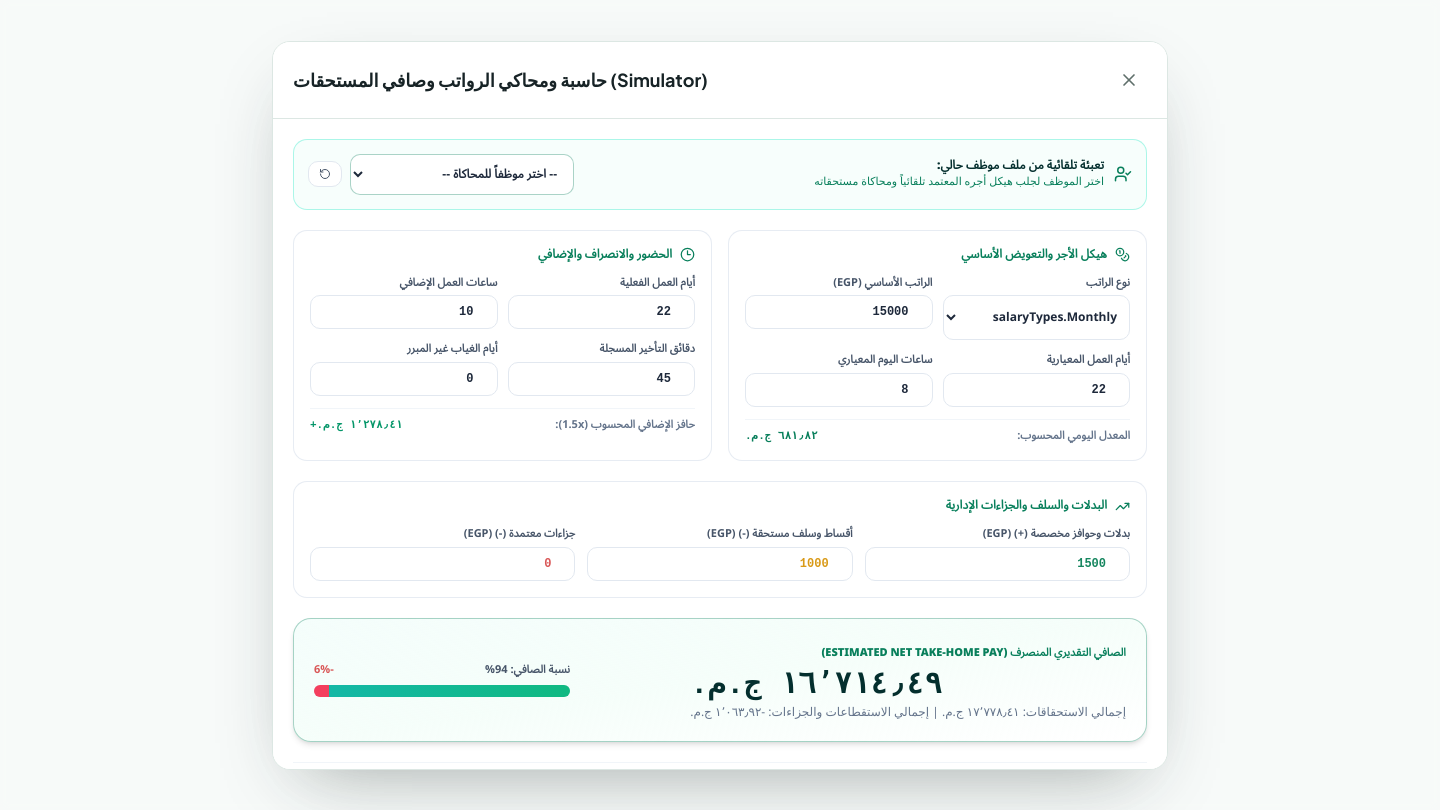
Test case: SalarySimulatorModal › updates base salary when staff member is selected
Select "Dr. Sarah Ahmed (Radiologist)" in the dropdown named "اختر موظفاً للمحاكاة" at (462, 174), box [350,154,574,194]
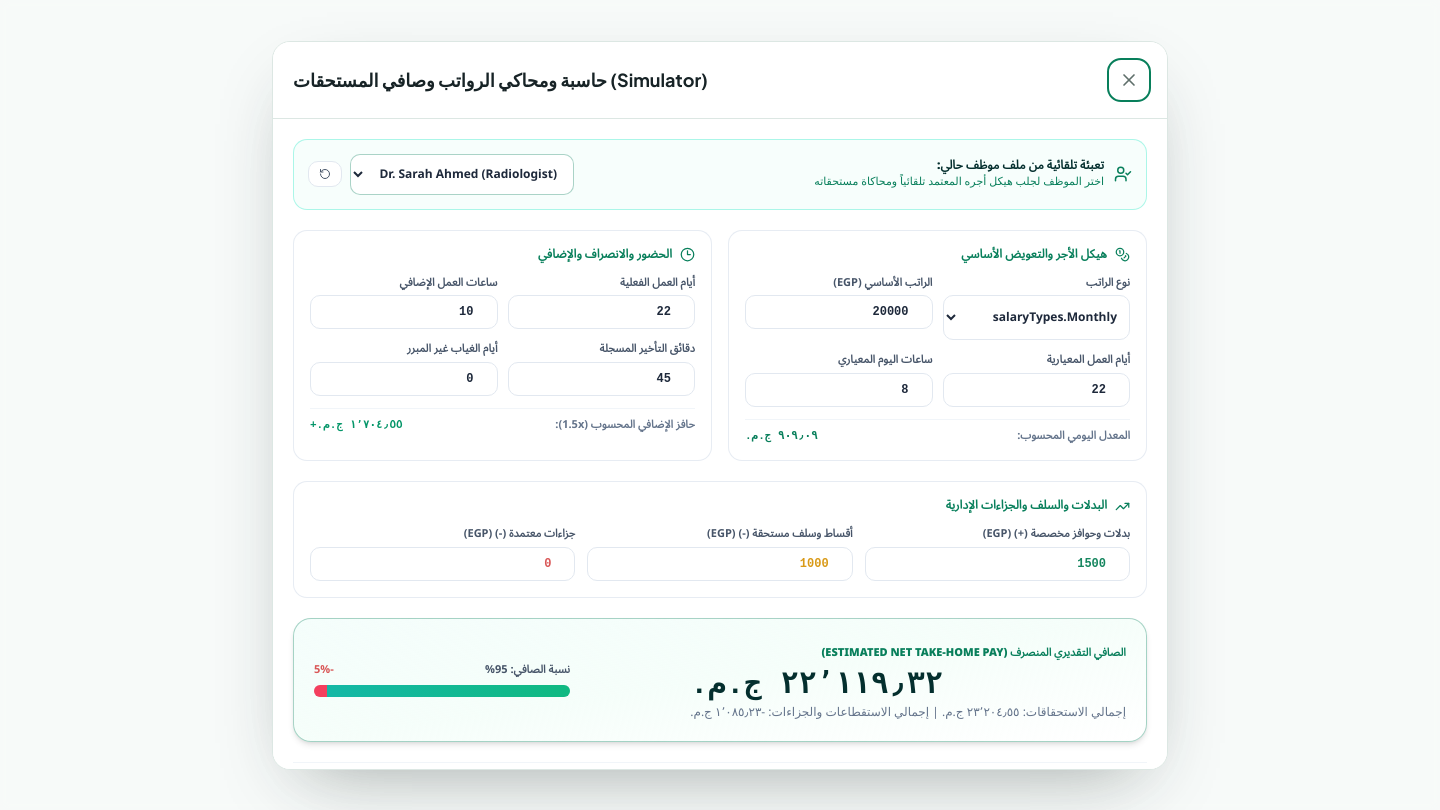
Expected: the number field showing "20000" is shown, [745,295,932,329]
